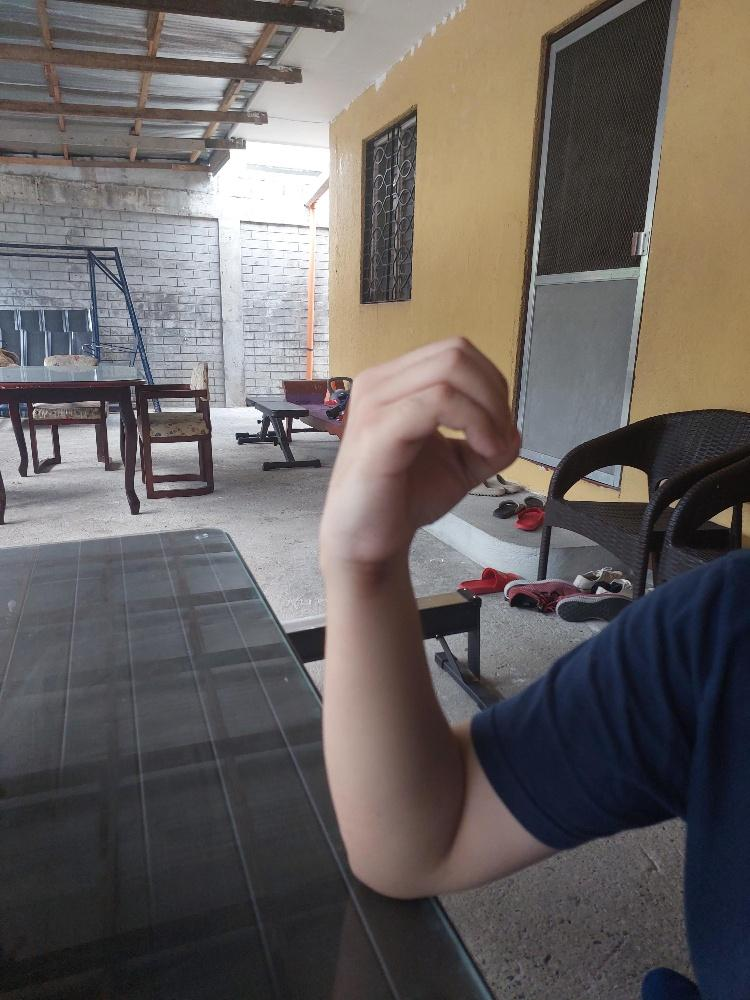o: (315, 329, 525, 565)
